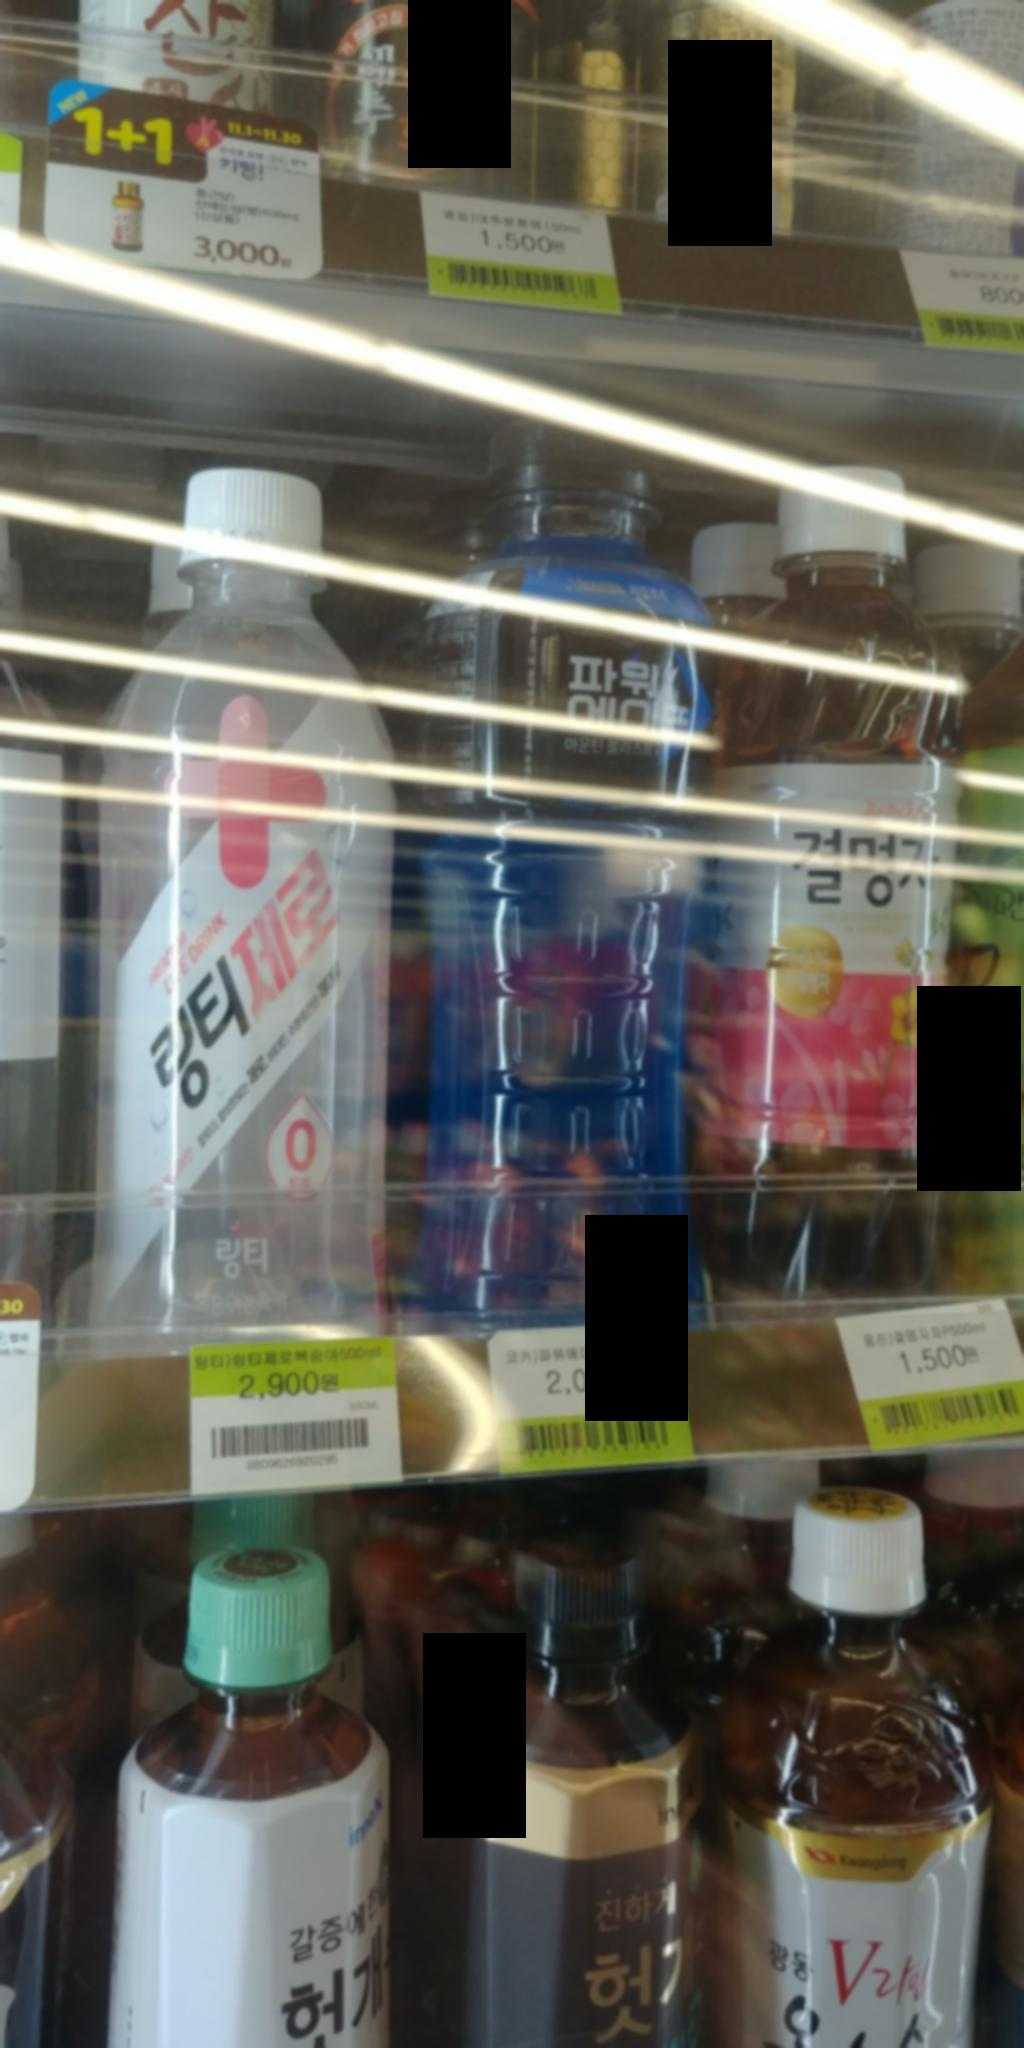powerade_mountainblast: (418, 396, 708, 1337)
